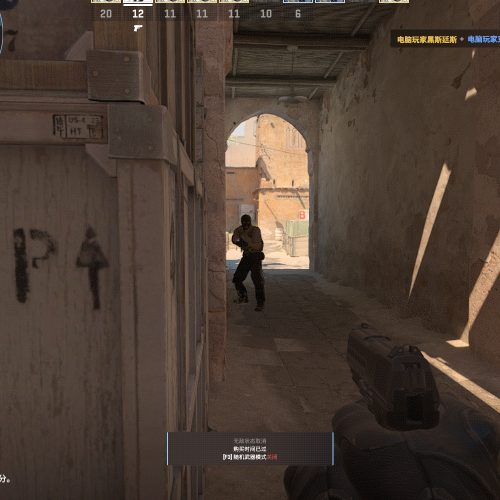t_body: (230, 213, 266, 311)
t_head: (240, 214, 253, 231)
